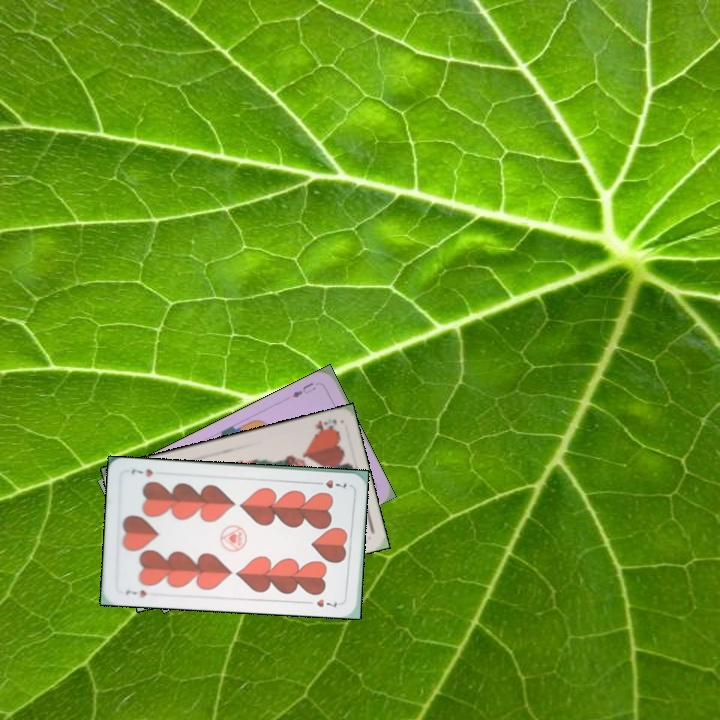EU: (288, 378, 319, 400)
H7: (311, 476, 349, 492), (122, 586, 149, 600)
HO: (310, 414, 339, 437)
